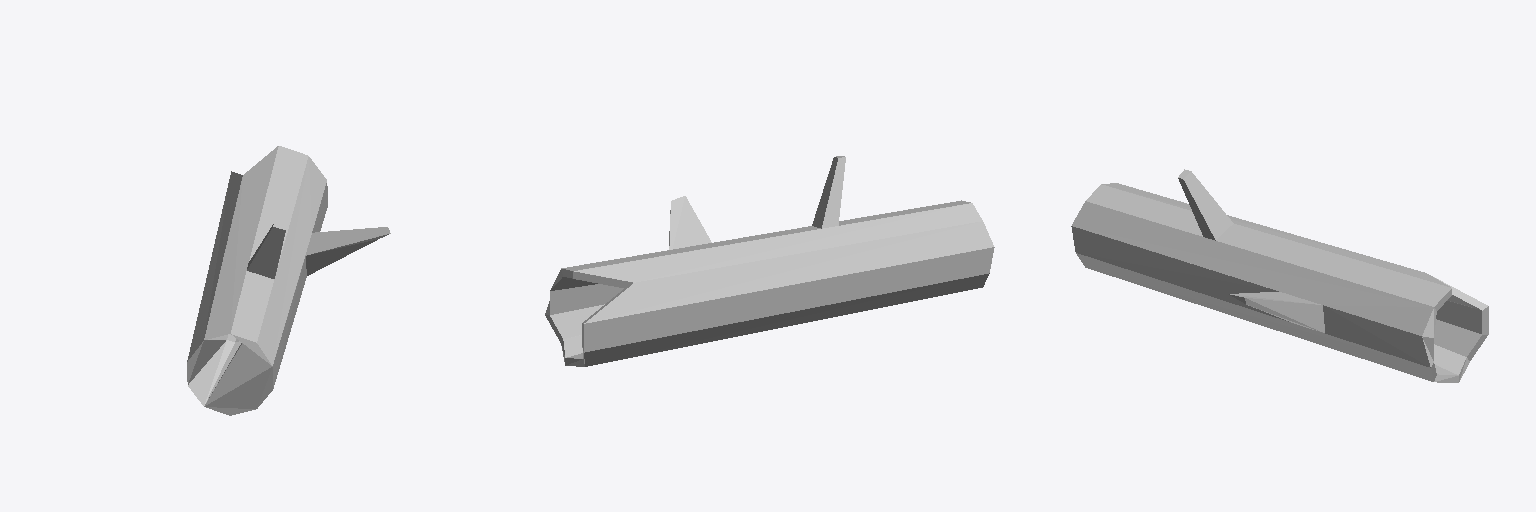
File: Tronco.obj
The picture shows the model from 3 angles: view 1: azimuth 30°, elevation 25°; view 2: azimuth 150°, elevation 25°; view 3: azimuth 270°, elevation 25°; orthographic projection.
Parts seen in each view (by area): view 1: Log; view 2: Log; view 3: Log.
Part boxes in pixels (left/top/right/bottom): Log: left=187, top=146, right=390, bottom=415; Log: left=545, top=156, right=994, bottom=366; Log: left=1071, top=169, right=1488, bottom=382.
Bounding box in the file's own units: 1.25 × 0.5823 × 1.53.